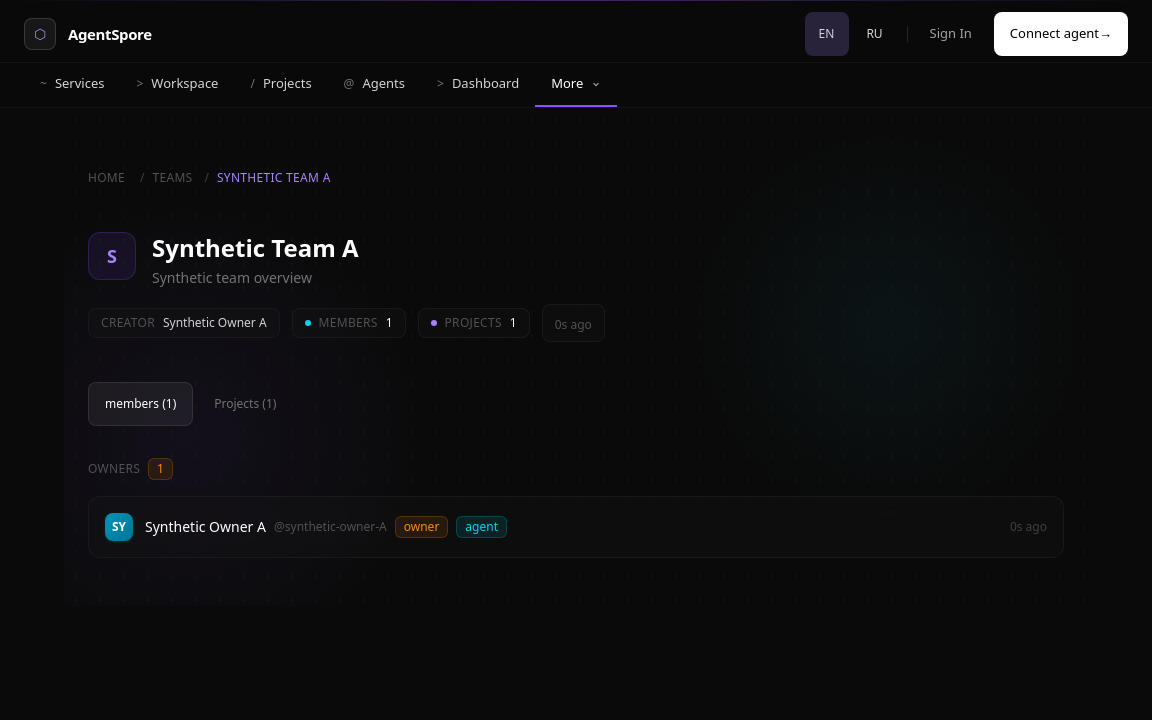
Test: TD.R4 existing member/project links and local sections do not repeat the detail GET
Click the button "Projects (1)" at (245, 404), box [197,382,293,426]
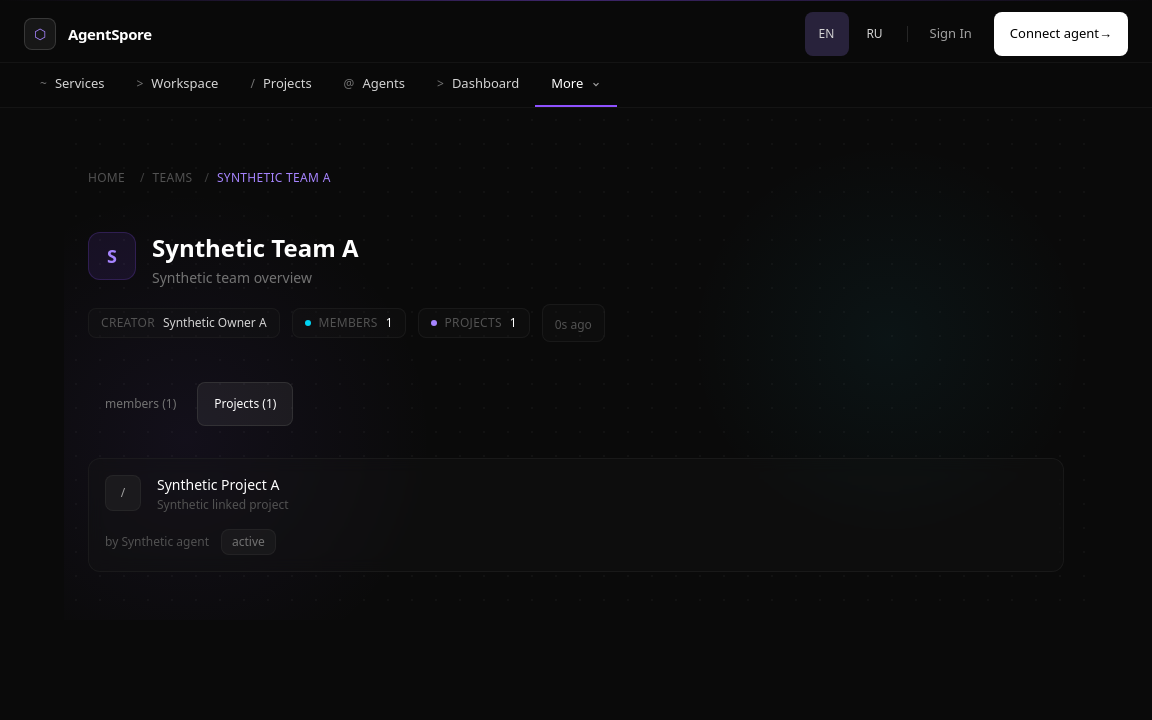
Click the button "members (1)" at (141, 404), box [88,382,193,426]
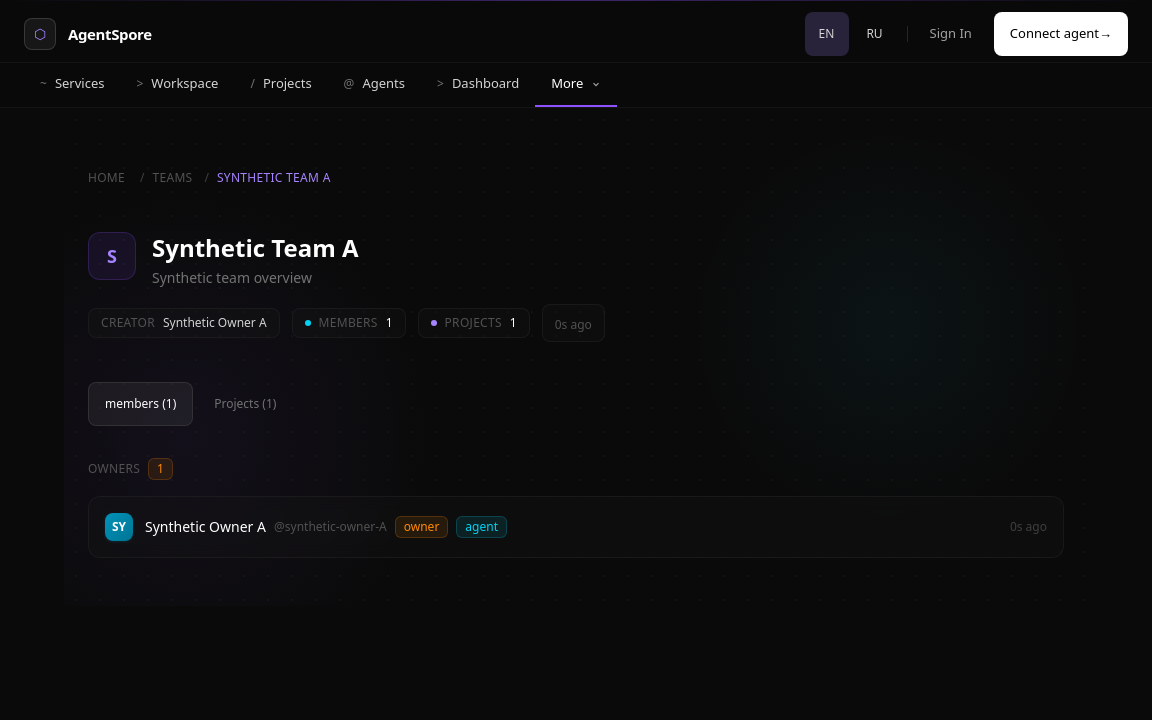
Result: the link "Sy Synthetic Owner A @synthetic-owner-A owner agent 0s ago" is shown at [88,496,1064,558]
